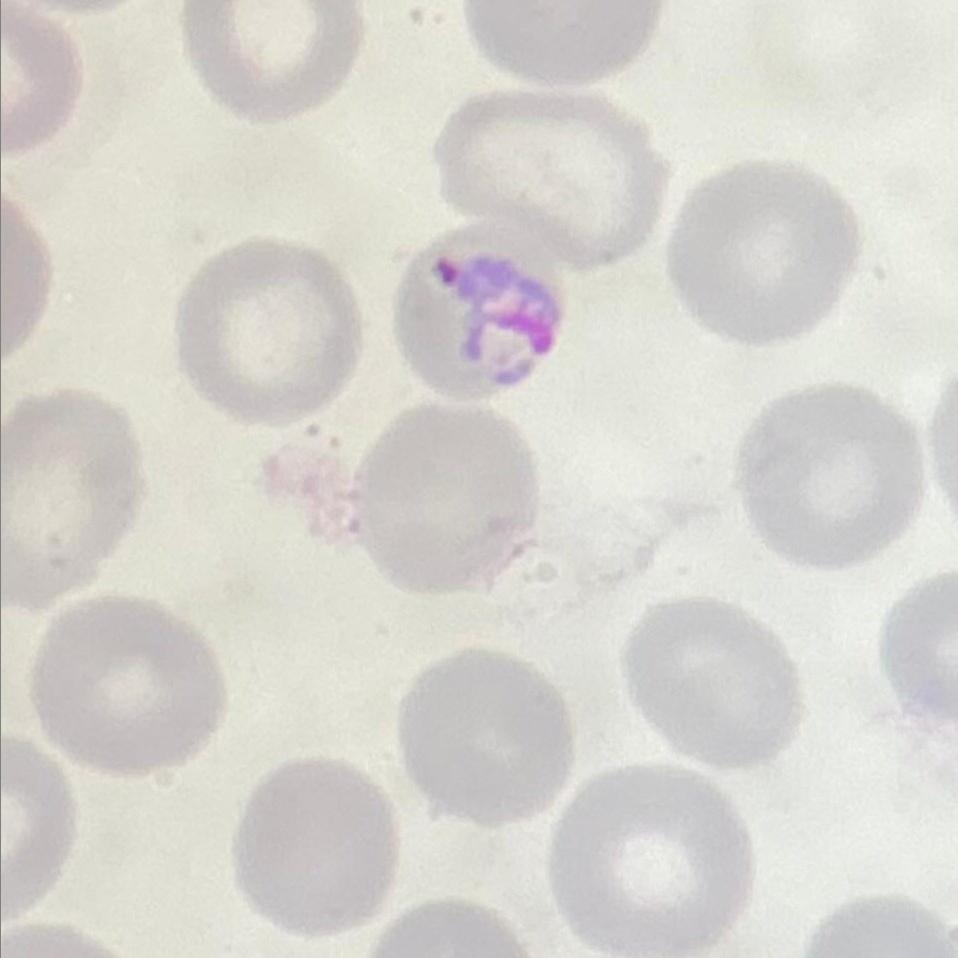Infected: (398, 224, 580, 400)
Uninfected: (548, 760, 758, 955), (432, 87, 663, 262), (732, 382, 922, 571), (35, 594, 228, 780), (360, 409, 542, 596), (180, 235, 354, 427), (0, 387, 142, 612), (677, 165, 854, 344), (397, 649, 576, 825), (622, 595, 799, 769), (238, 754, 396, 935), (183, 0, 356, 122)
